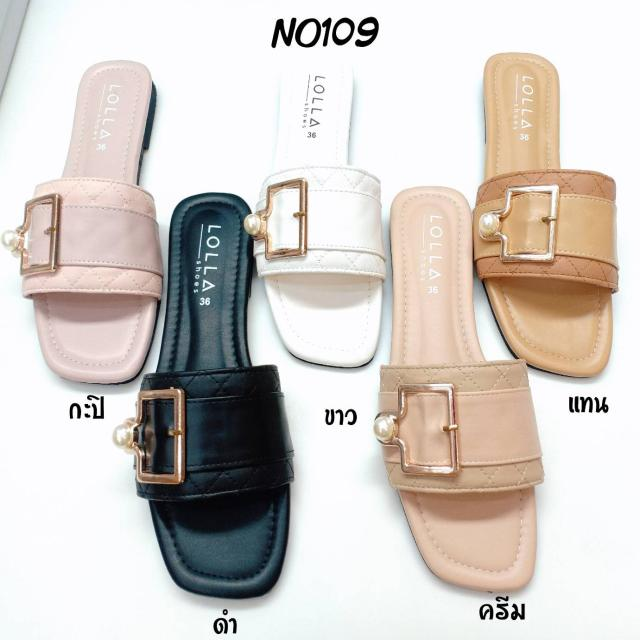black: (137, 194, 293, 596)
cream: (381, 195, 538, 590)
kapi: (39, 53, 162, 381)
tan: (483, 54, 619, 377)
white: (267, 53, 378, 364)
